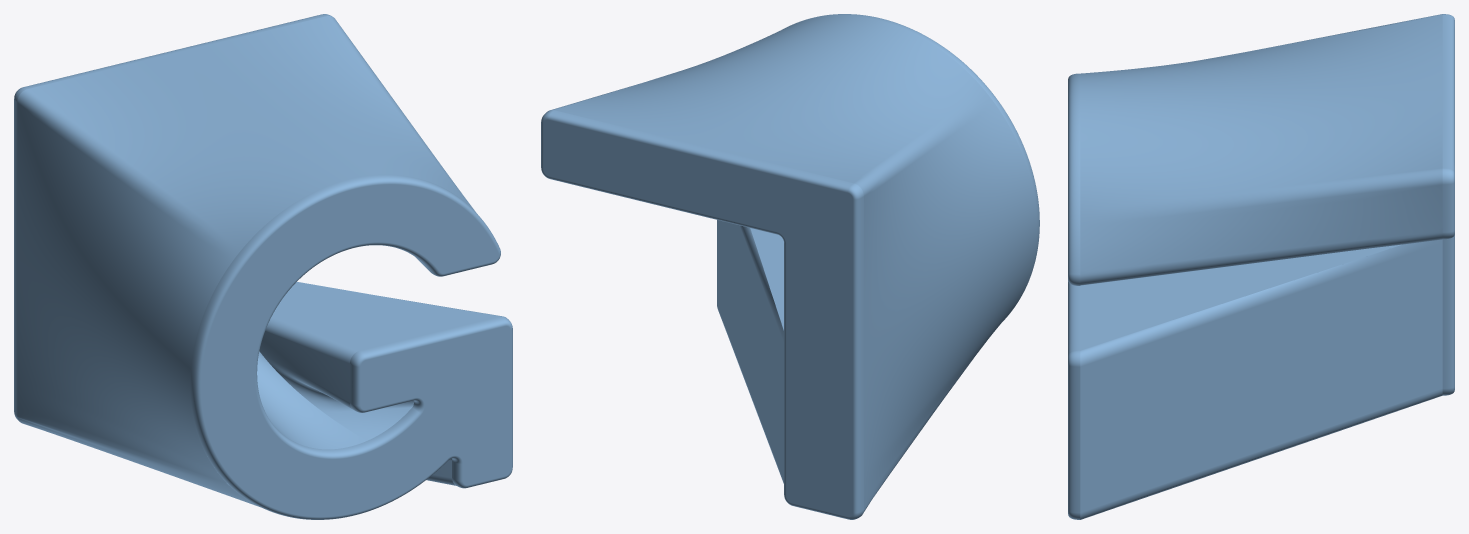
Rendered from ice blue Gㄱ.glb.
3 renders of one model, left to right at view 1: azimuth 30°, elevation 25°; view 2: azimuth 150°, elevation 25°; view 3: azimuth 270°, elevation 25°, orthographic. The views are drawn at different scales.
Visible parts, largest first — view 1: object_1; view 2: object_1; view 3: object_1.
Boxes of the visible parts, bbox=[...] form: object_1: bbox=[14, 14, 512, 519]; object_1: bbox=[541, 14, 1039, 519]; object_1: bbox=[1068, 14, 1454, 519].
Bounding box in the file's own units: 50 × 50 × 50.
